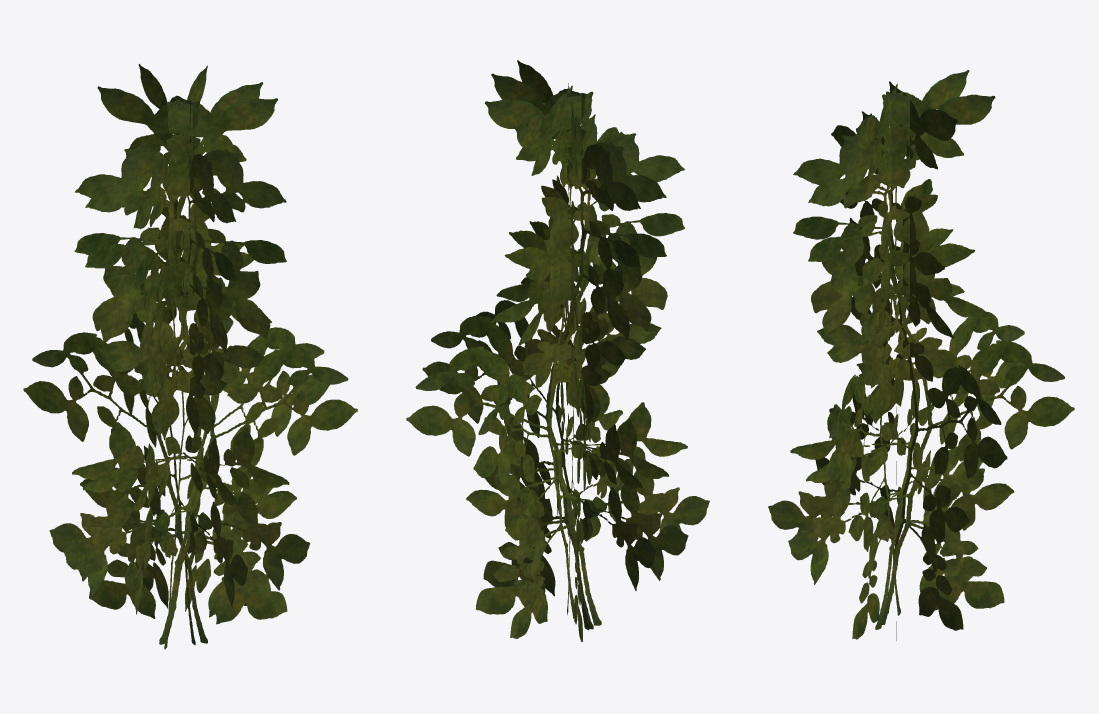
File: SM_Lounge_Foliage_05.fbx
3 views of the same model, side by side, from view 1: azimuth 30°, elevation 25°; view 2: azimuth 150°, elevation 25°; view 3: azimuth 270°, elevation 25° (orthographic).
Parts seen in each view (by area): view 1: SM_Lounge_Foliage_05; view 2: SM_Lounge_Foliage_05; view 3: SM_Lounge_Foliage_05.
Part boxes in pixels (bbox=[...]): SM_Lounge_Foliage_05: bbox=[23, 64, 357, 649]; SM_Lounge_Foliage_05: bbox=[406, 60, 709, 641]; SM_Lounge_Foliage_05: bbox=[768, 70, 1074, 640].
Size of the model in its own units: 29.93 by 54.39 by 29.92.
1 material, 1 textured.
